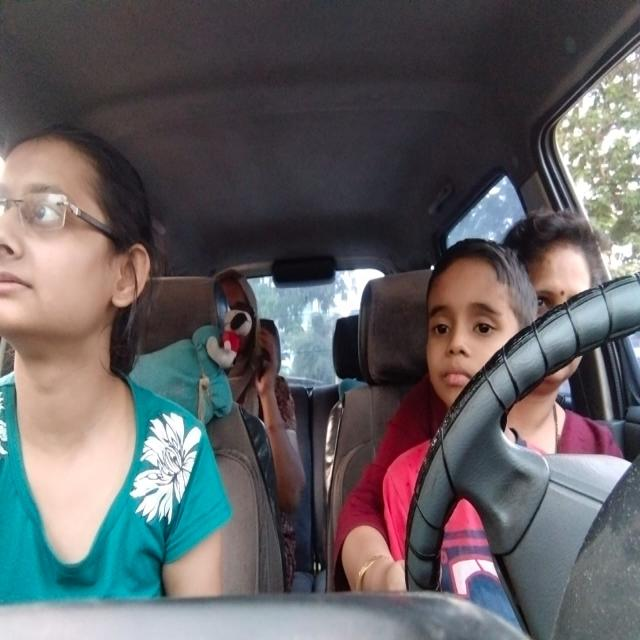child: (417, 235, 537, 397)
person: (0, 128, 154, 336), (510, 204, 594, 385)
